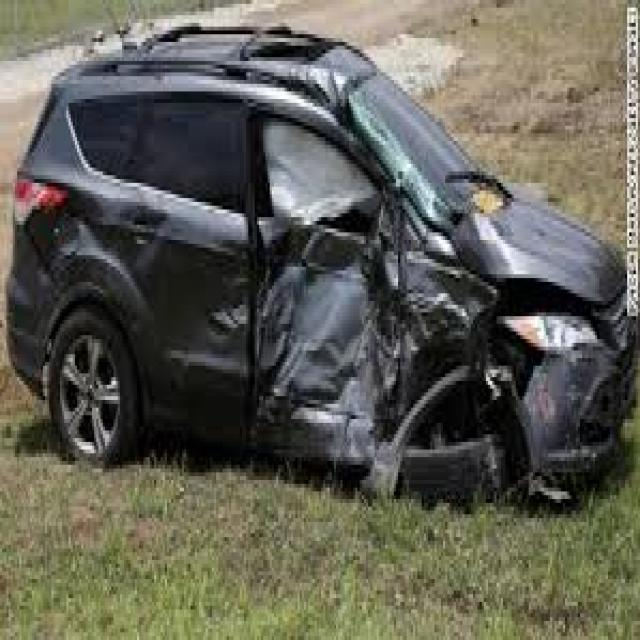accident: (20, 6, 613, 523)
